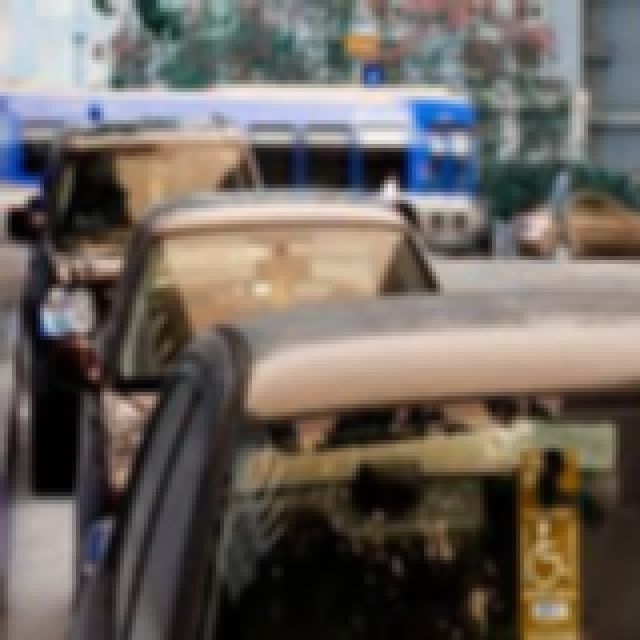ISA: (527, 517, 572, 587)
